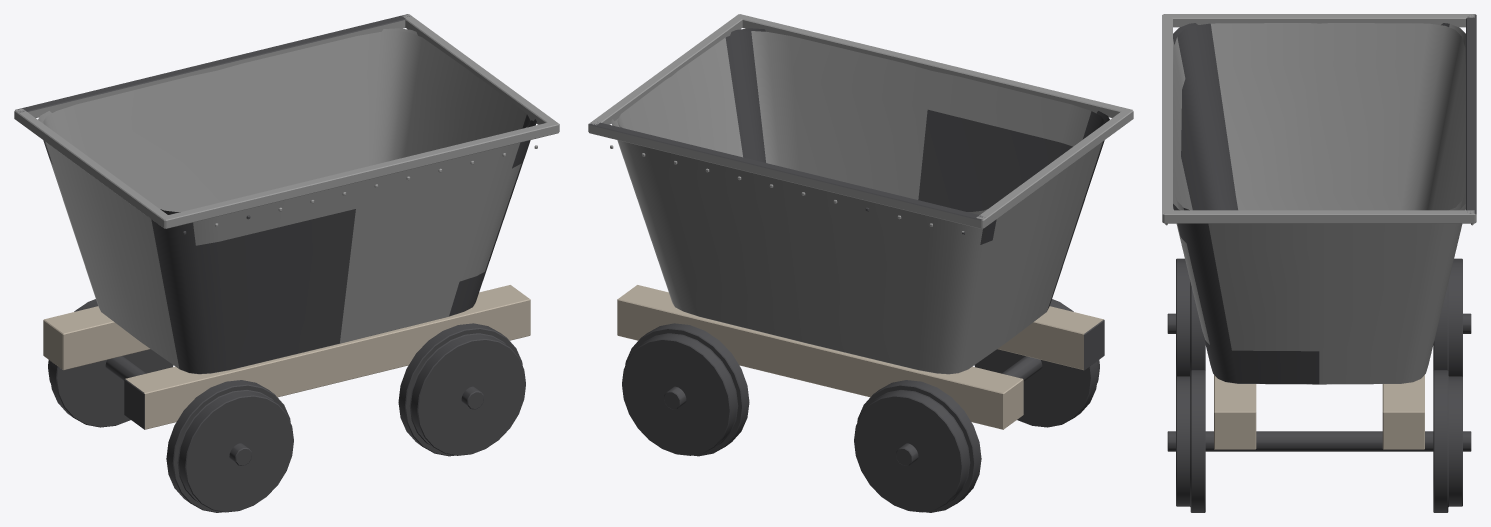
Rendered from ore_cart.glb.
The picture shows the model from 3 angles, left to right: view 1: azimuth 30°, elevation 25°; view 2: azimuth 150°, elevation 25°; view 3: azimuth 270°, elevation 25°; orthographic projection. The views are drawn at different scales.
Parts seen in each view (by area): view 1: ore_cart; view 2: ore_cart; view 3: ore_cart.
Boxes of the visible parts, bbox=[...] form: ore_cart: bbox=[14, 14, 559, 512]; ore_cart: bbox=[588, 14, 1133, 512]; ore_cart: bbox=[1162, 14, 1476, 512].
Bounding box in the file's own units: 1.12 × 0.8725 × 0.745.
